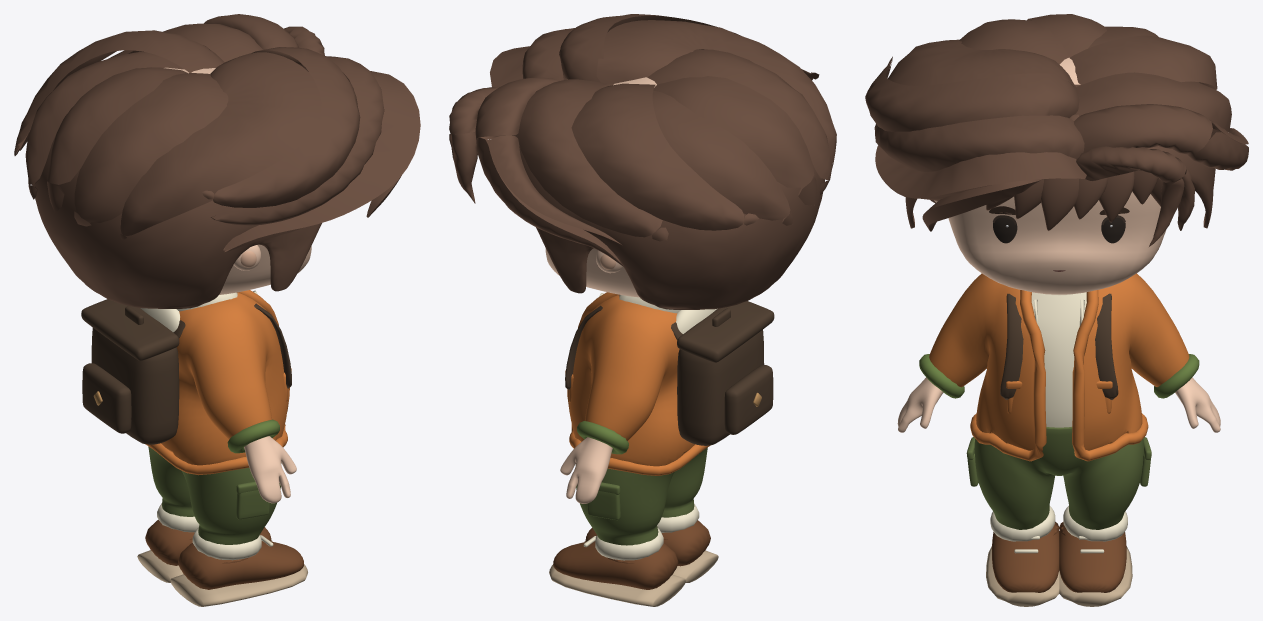
Rendered from camper_reference_male.glb.
3 views of the same model, side by side, from view 1: azimuth 30°, elevation 25°; view 2: azimuth 150°, elevation 25°; view 3: azimuth 270°, elevation 25° (orthographic).
Parts seen in each view (by area): view 1: hair, jacket, backpack, pants, boots, Chibi_Base_Mesh2, soles, pants_cuffs, jacket_trim, cargo_pockets, jacket_cuffs, hood; view 2: hair, jacket, backpack, pants, boots, Chibi_Base_Mesh2, soles, pants_cuffs, jacket_trim, cargo_pockets, jacket_cuffs, hood; view 3: hair, jacket, Chibi_Base_Mesh2, pants, boots, jacket_trim, rounded_fringe, inner_shirt, backpack, soles, pants_cuffs, jacket_cuffs (+2 smaller).
Part boxes in pixels (bbox=[...]): hair: bbox=[14, 14, 420, 308]; jacket: bbox=[161, 293, 287, 465]; backpack: bbox=[81, 299, 291, 444]; pants: bbox=[148, 446, 281, 544]; boots: bbox=[145, 519, 303, 589]; Chibi_Base_Mesh2: bbox=[164, 67, 311, 503]; soles: bbox=[137, 540, 307, 606]; pants_cuffs: bbox=[157, 503, 261, 560]; jacket_trim: bbox=[145, 290, 289, 475]; cargo_pockets: bbox=[236, 481, 269, 519]; jacket_cuffs: bbox=[227, 419, 279, 453]; hood: bbox=[140, 292, 237, 332]; hair: bbox=[449, 14, 836, 309]; jacket: bbox=[569, 295, 694, 466]; backpack: bbox=[565, 301, 774, 445]; pants: bbox=[575, 447, 707, 545]; boots: bbox=[553, 520, 710, 589]; Chibi_Base_Mesh2: bbox=[545, 77, 656, 503]; soles: bbox=[549, 541, 718, 606]; pants_cuffs: bbox=[595, 503, 699, 560]; jacket_trim: bbox=[567, 292, 710, 475]; cargo_pockets: bbox=[587, 482, 620, 520]; jacket_cuffs: bbox=[577, 421, 628, 454]; hood: bbox=[619, 295, 717, 333]; hair: bbox=[865, 14, 1248, 246]; jacket: bbox=[929, 273, 1189, 450]; Chibi_Base_Mesh2: bbox=[897, 57, 1220, 432]; pants: bbox=[974, 427, 1143, 529]; boots: bbox=[992, 522, 1126, 592]; jacket_trim: bbox=[970, 290, 1148, 461]; rounded_fringe: bbox=[986, 114, 1162, 230]; inner_shirt: bbox=[1031, 292, 1086, 427]; backpack: bbox=[1000, 293, 1118, 399]; soles: bbox=[986, 546, 1132, 606]; pants_cuffs: bbox=[990, 506, 1127, 541]; jacket_cuffs: bbox=[919, 354, 1199, 398].
Size of the model in its own units: 0.7577 by 1.14 by 0.7507.
